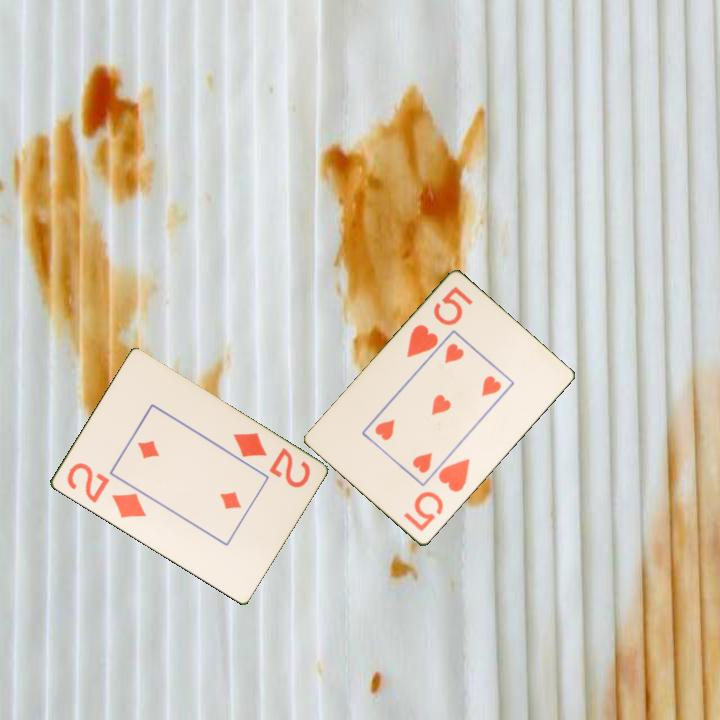2d: (63, 459, 149, 521), (229, 429, 313, 491)
5h: (400, 455, 473, 535), (403, 283, 476, 361)
